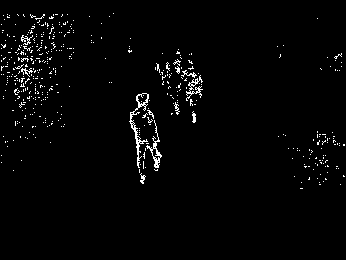person: (127, 90, 163, 187)
